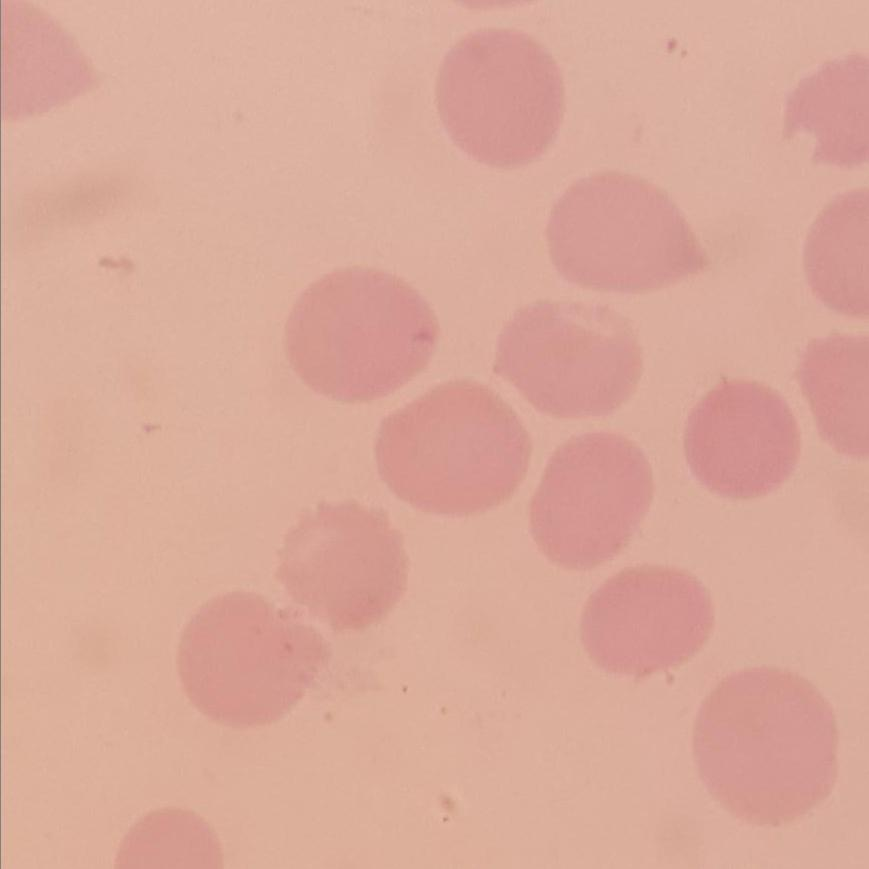Uninfected: (372, 373, 532, 521), (695, 661, 837, 821), (170, 591, 330, 731), (547, 168, 712, 303), (282, 266, 442, 401), (435, 31, 567, 166), (528, 428, 650, 566), (270, 501, 405, 623), (500, 301, 637, 416), (580, 566, 710, 681), (685, 376, 800, 496)
